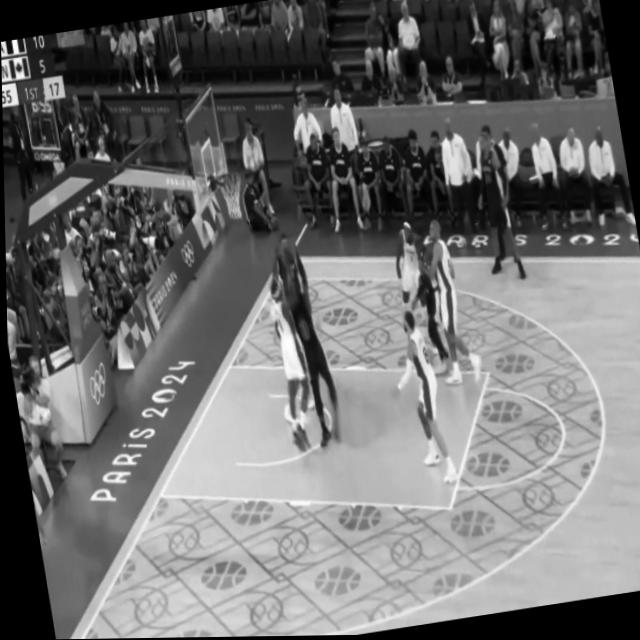ball_handler: (275, 235, 343, 453)
